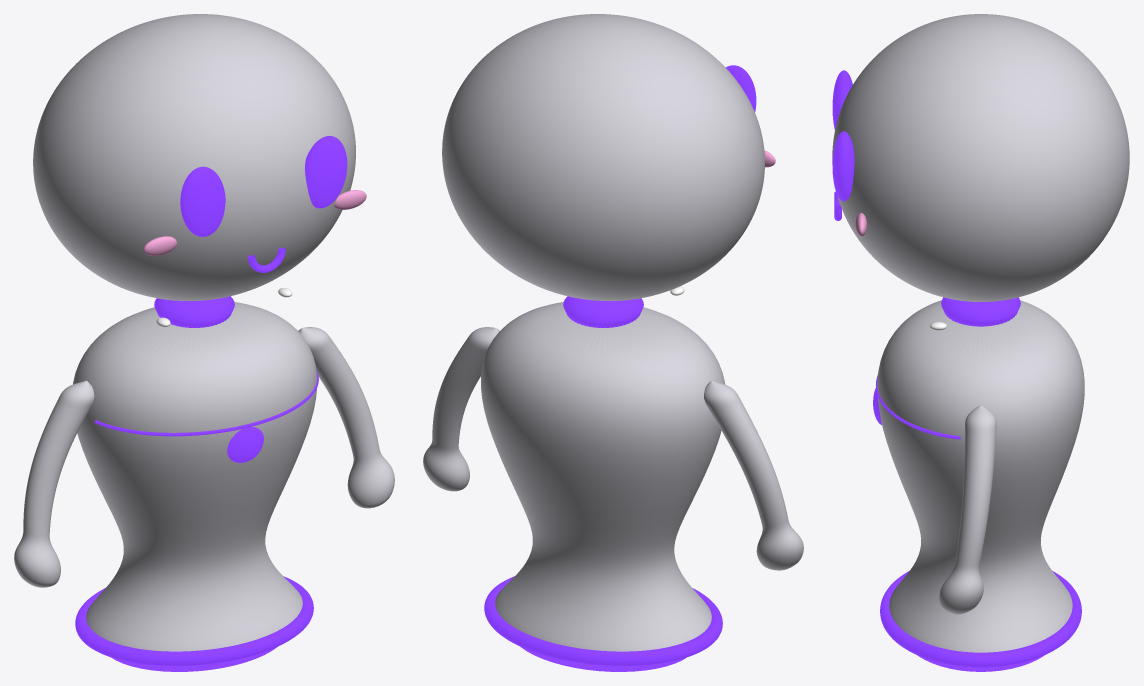
The model's file is Harley.fbx.
The picture shows the model from 3 angles, left to right: view 1: azimuth 30°, elevation 25°; view 2: azimuth 150°, elevation 25°; view 3: azimuth 270°, elevation 25°; orthographic projection.
Parts seen in each view (by area): view 1: Head, Body, ArmL, ArmR, HoverRing, EyeL, EyeR, Neck, Core, Seam, HoverGlow; view 2: Head, Body, ArmL, ArmR, HoverRing, Neck, HoverGlow; view 3: Head, Body, ArmR, HoverRing, Neck, EyeR, EyeL, HoverGlow.
Boxes of the visible parts, bbox=[...] form: Head: bbox=[33, 14, 355, 300]; Body: bbox=[73, 302, 317, 651]; ArmL: bbox=[14, 380, 94, 587]; ArmR: bbox=[298, 327, 394, 508]; HoverRing: bbox=[75, 576, 313, 665]; EyeL: bbox=[180, 166, 225, 236]; EyeR: bbox=[305, 136, 347, 208]; Neck: bbox=[154, 296, 234, 327]; Core: bbox=[227, 427, 263, 462]; Seam: bbox=[94, 370, 318, 436]; HoverGlow: bbox=[111, 646, 277, 671]; Head: bbox=[442, 14, 764, 300]; Body: bbox=[481, 302, 725, 651]; ArmL: bbox=[704, 380, 803, 570]; ArmR: bbox=[423, 327, 499, 491]; HoverRing: bbox=[484, 576, 722, 665]; Neck: bbox=[563, 296, 643, 327]; HoverGlow: bbox=[521, 647, 686, 671]; Head: bbox=[832, 14, 1129, 301]; Body: bbox=[877, 300, 1084, 652]; ArmR: bbox=[939, 405, 996, 614]; HoverRing: bbox=[880, 571, 1081, 667]; Neck: bbox=[941, 297, 1020, 326]; EyeR: bbox=[832, 131, 854, 201]; EyeL: bbox=[832, 70, 852, 129]; HoverGlow: bbox=[917, 655, 1044, 671].
Size of the model in its own units: 0.2218 by 0.3429 by 0.1541.
